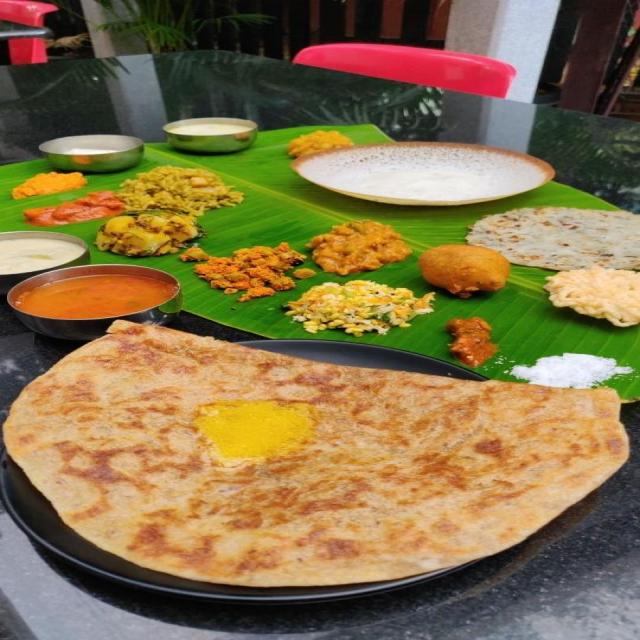veg meals: (0, 91, 640, 610)
